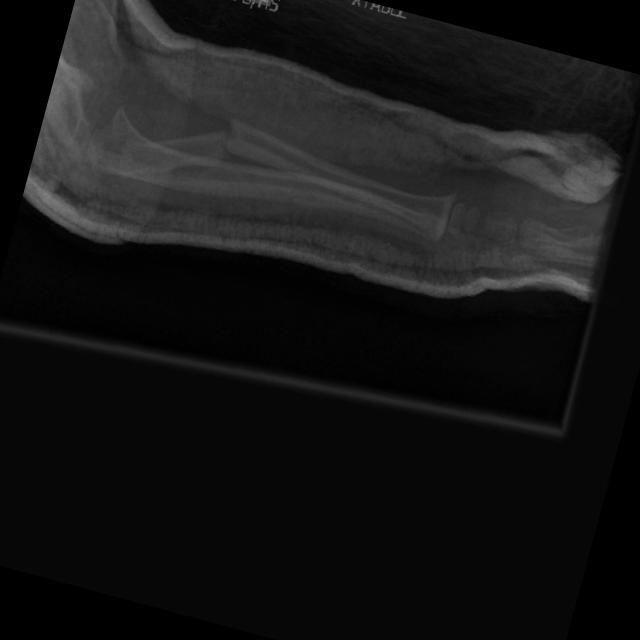forearm fracture: (190, 95, 270, 179)
